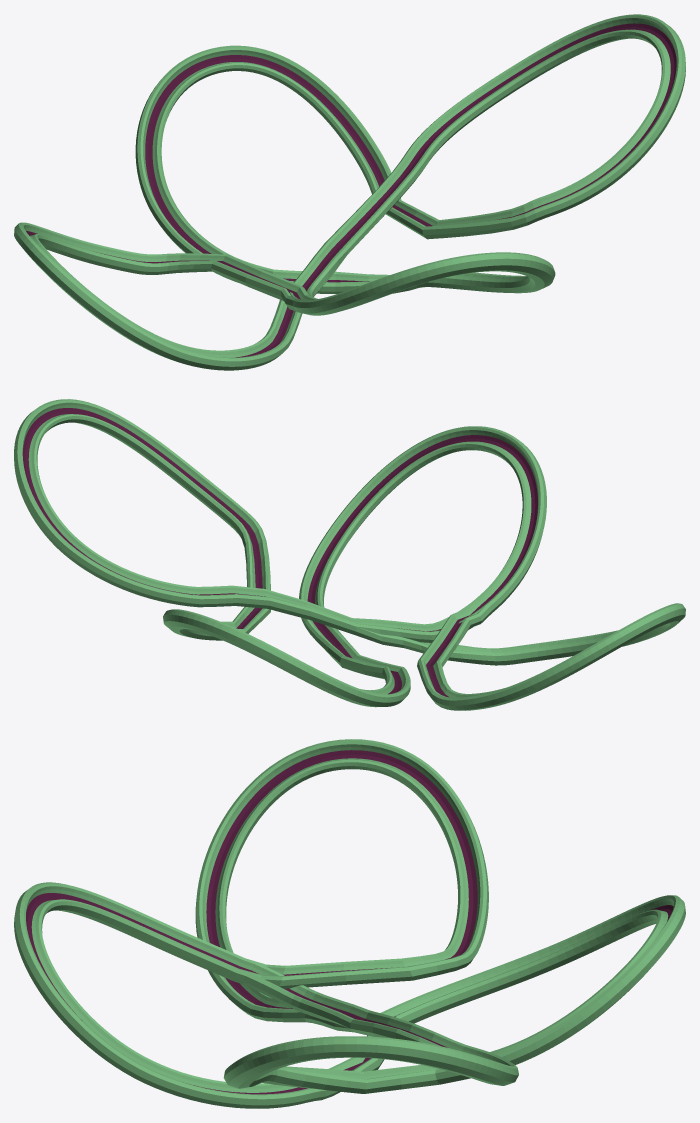
The model's file is this 2.fbx.
The picture shows the model from 3 angles, top to bottom: view 1: azimuth 30°, elevation 25°; view 2: azimuth 150°, elevation 25°; view 3: azimuth 270°, elevation 25°; orthographic projection. The views are drawn at different scales.
Visible parts, largest first — view 1: level3upgrade2.001, upgrade3, level3basic.003, upgrade1lvl3.002, SEBEK; view 2: level3upgrade2.001, upgrade1lvl3.002, upgrade3, level3basic.003, SEBEK; view 3: upgrade3, upgrade1lvl3.002, level3upgrade2.001, level3basic.003, SEBEK.
Boxes of the visible parts, <box> form: level3upgrade2.001: <box>325,14,685,254</box>; upgrade3: <box>14,222,346,370</box>; level3basic.003: <box>135,45,401,282</box>; upgrade1lvl3.002: <box>273,252,555,315</box>; SEBEK: <box>289,241,347,298</box>; level3upgrade2.001: <box>14,399,356,635</box>; upgrade1lvl3.002: <box>299,426,546,679</box>; upgrade3: <box>356,599,685,710</box>; level3basic.003: <box>163,609,410,707</box>; SEBEK: <box>352,600,487,642</box>; upgrade3: <box>195,739,488,1032</box>; upgrade1lvl3.002: <box>14,882,397,1108</box>; level3upgrade2.001: <box>223,1010,518,1093</box>; level3basic.003: <box>380,895,685,1084</box>; SEBEK: <box>234,958,370,1028</box>.
Bounding box in the file's own units: 2504 × 709 × 1901.
